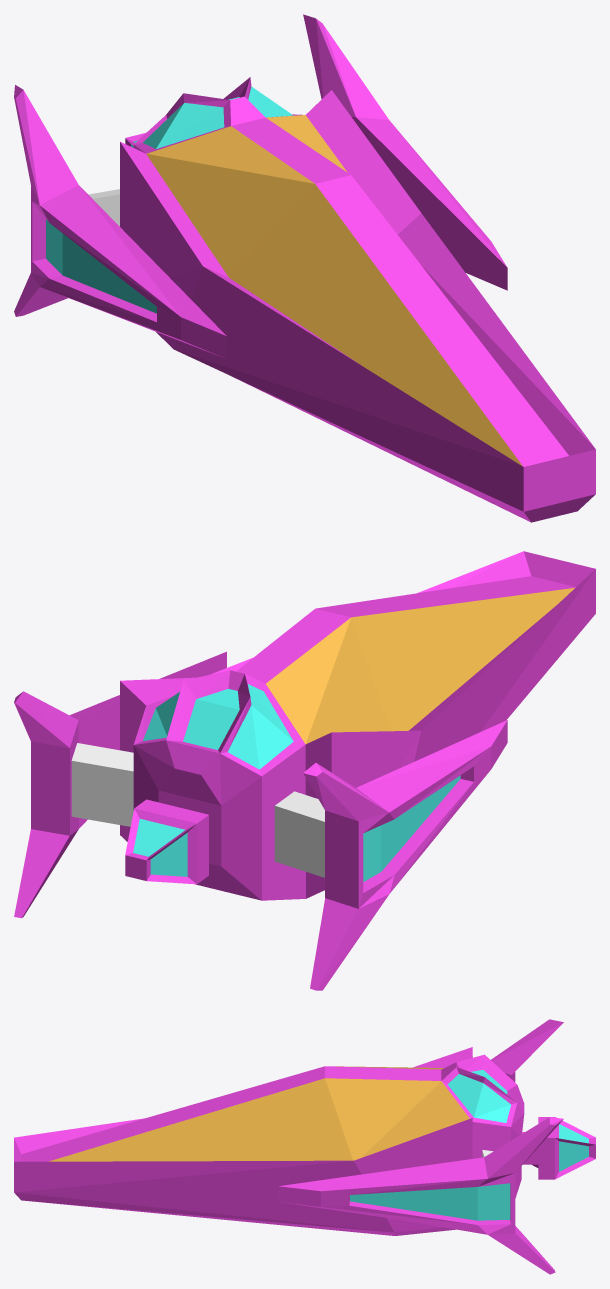
The model's file is Ship_1x2_A2.fbx.
3 renders of one model, top to bottom at view 1: azimuth 30°, elevation 25°; view 2: azimuth 150°, elevation 25°; view 3: azimuth 270°, elevation 25°, orthographic. The views are drawn at different scales.
Visible parts, largest first — view 1: Ship_1x2_A2; view 2: Ship_1x2_A2; view 3: Ship_1x2_A2.
Boxes of the visible parts, x1,y1,x2,y2 form: Ship_1x2_A2: [14, 14, 595, 522]; Ship_1x2_A2: [14, 551, 595, 990]; Ship_1x2_A2: [14, 1019, 595, 1274].
Bounding box in the file's own units: 86.11 × 54.39 × 181.
